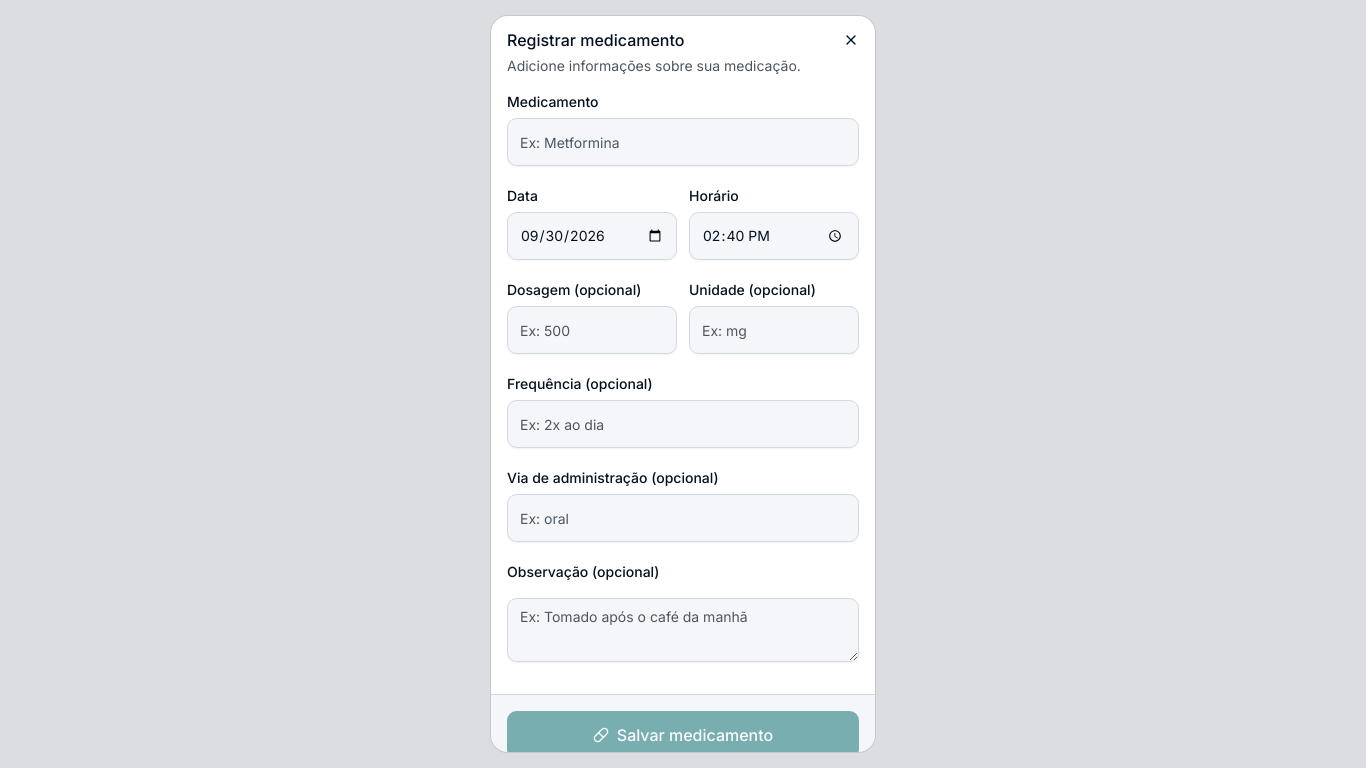
Scenario: MedicationFormDialog › shows a validation error and does not submit on an invalid dosage
The width and height of the screenshot is (1366, 768).
Type "Metformina" into the field labelled "Medicamento". click: (683, 142)
box: [507,118,859,166]
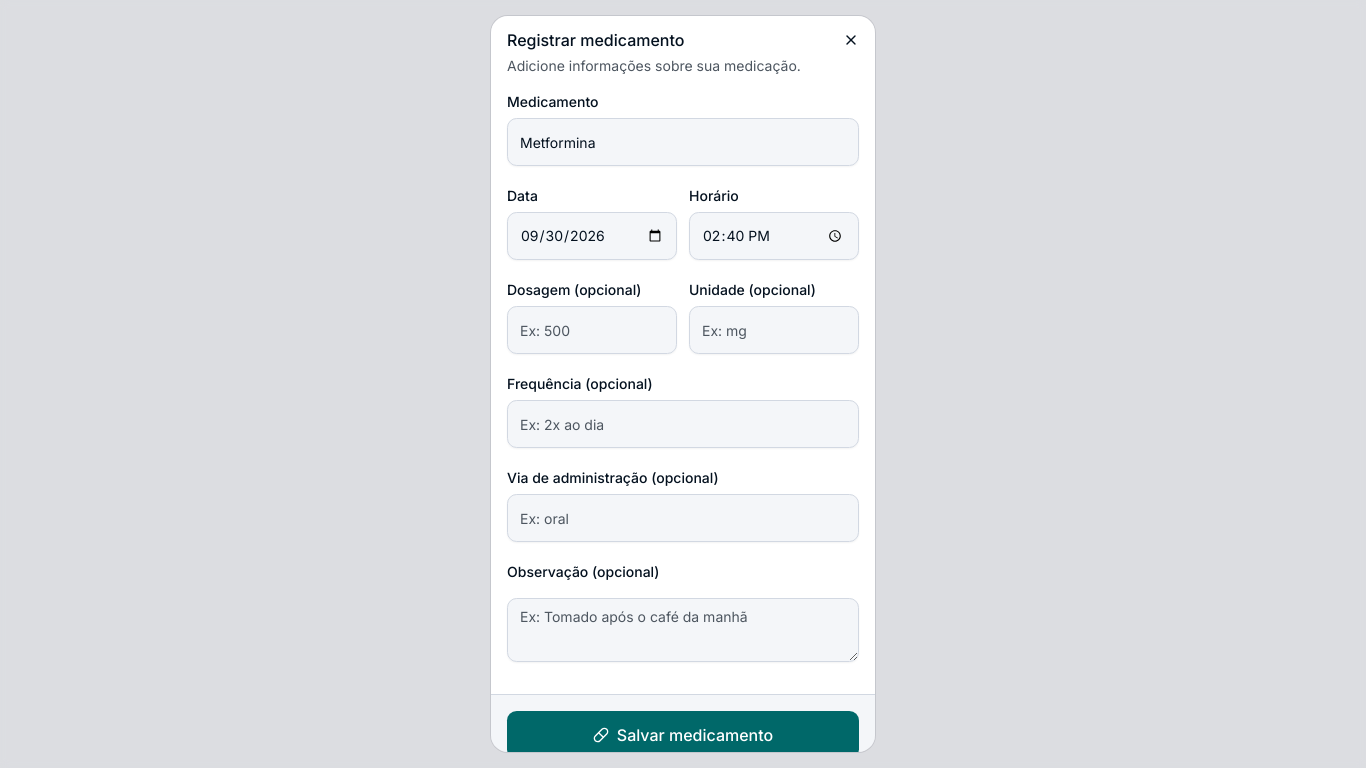
Type "abc" into the field labelled "Dosagem (opcional)". click: (592, 330)
box: [507,306,677,354]
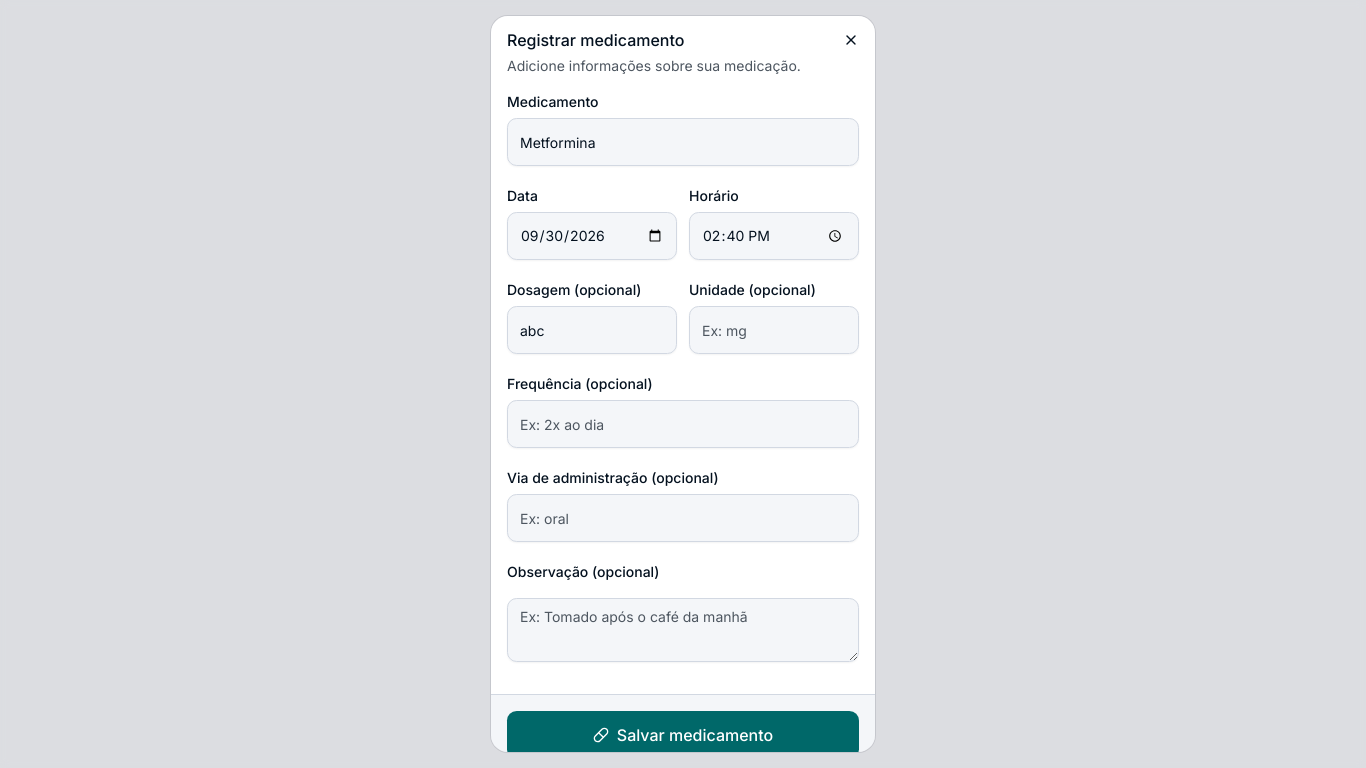
Click the button "Salvar medicamento". click: (683, 735)
box: [507,711,859,759]
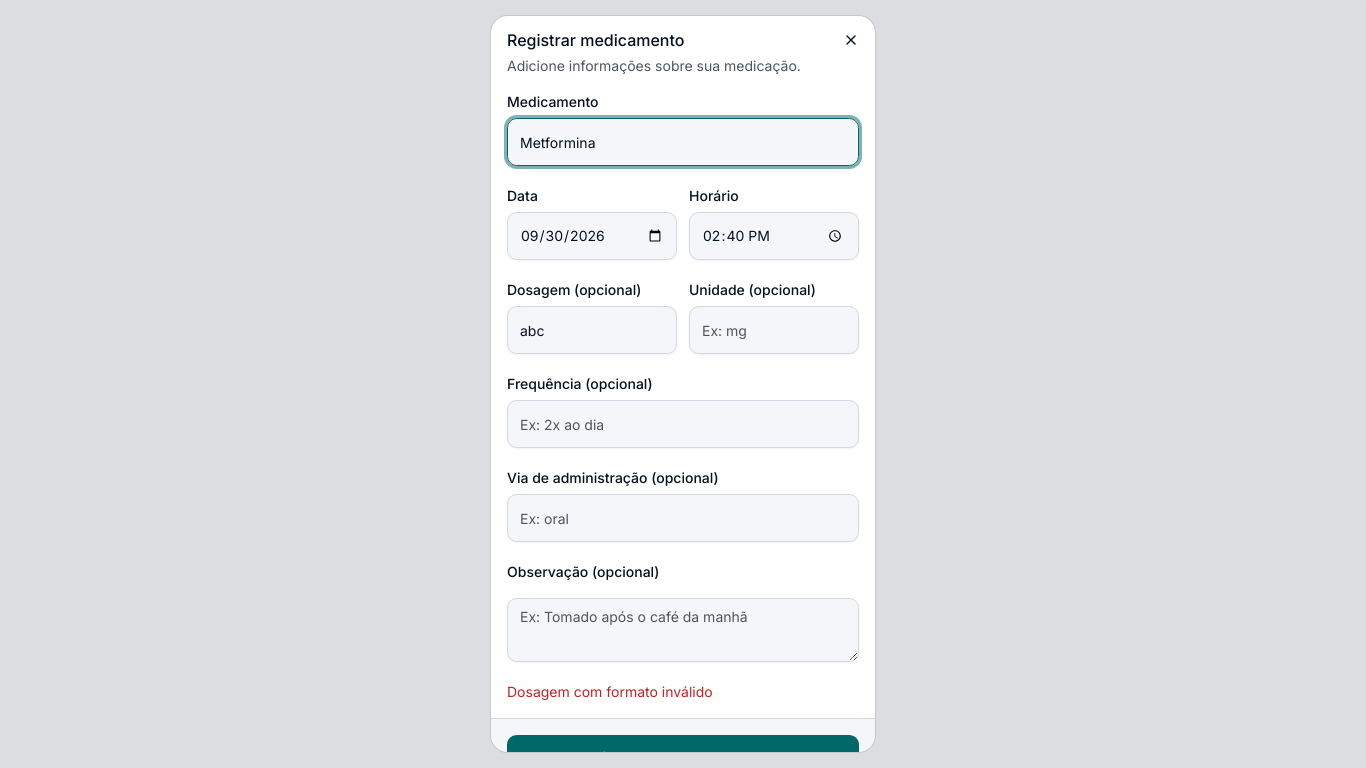
Check: the text "Dosagem com formato inválido" is shown, box [507,683,713,700]
